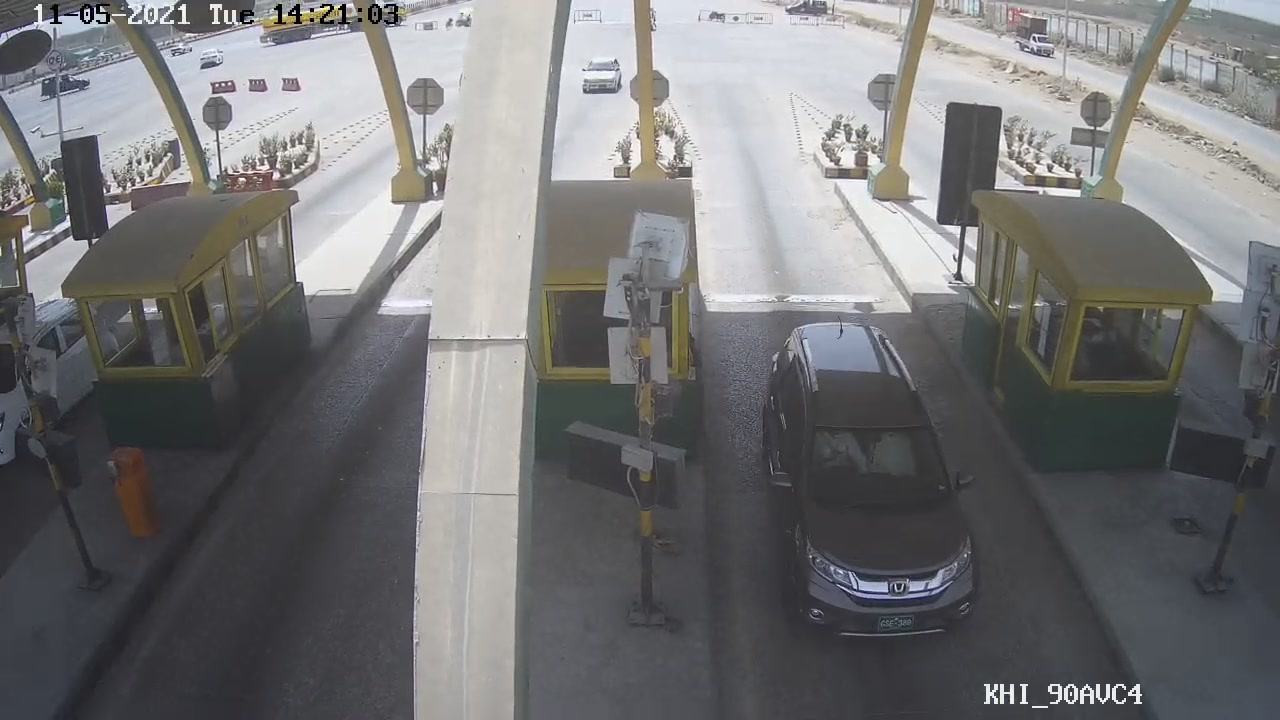F1: (762, 316, 985, 643)
